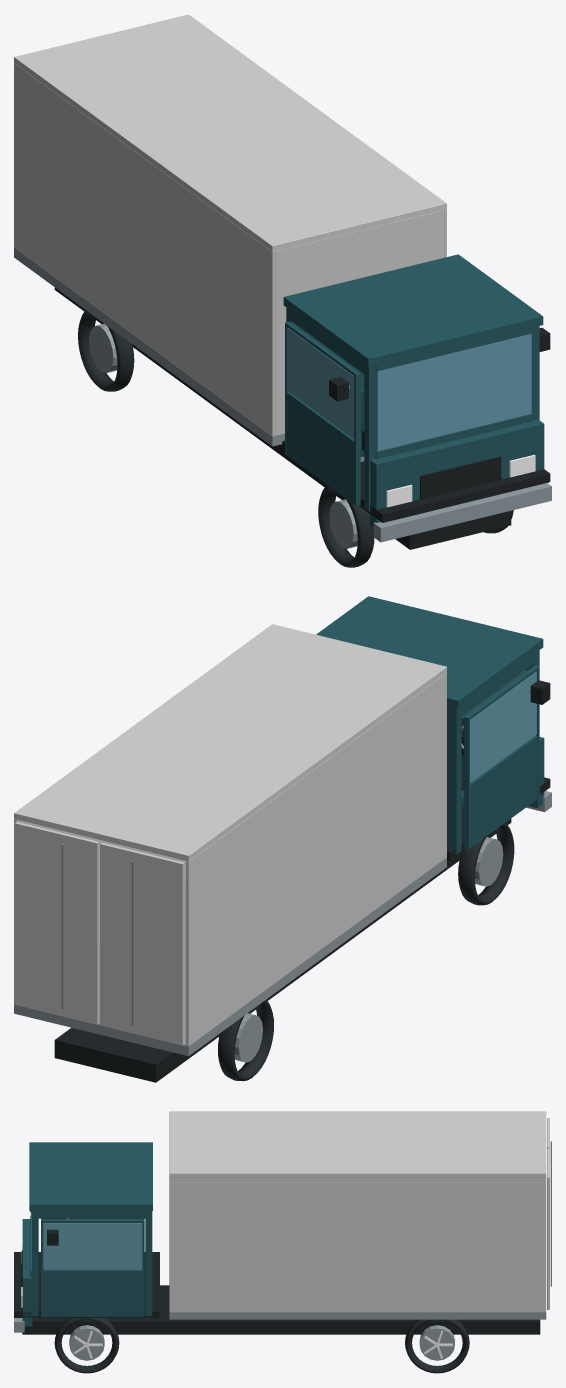
The model's file is truck_hd.glb.
3 views of the same model, one above another, from view 1: azimuth 30°, elevation 25°; view 2: azimuth 150°, elevation 25°; view 3: azimuth 270°, elevation 25° (orthographic). The views are drawn at different scales.
Visible parts, largest first — view 1: body, wheel_FL, wheel_RL; view 2: body, wheel_FL, wheel_RL; view 3: body, wheel_FR, wheel_RR.
Part boxes in pixels (x1,y1,x2,y2): body: (14,14,551,549); wheel_FL: (318,485,374,567); wheel_RL: (78,310,134,391); body: (14,596,551,1082); wheel_FL: (458,823,514,905); wheel_RL: (218,1000,273,1081); body: (14,1111,551,1334); wheel_FR: (54,1318,119,1373); wheel_RR: (405,1319,469,1373).
Size of the model in its own units: 2.94 by 3.7 by 8.8.
